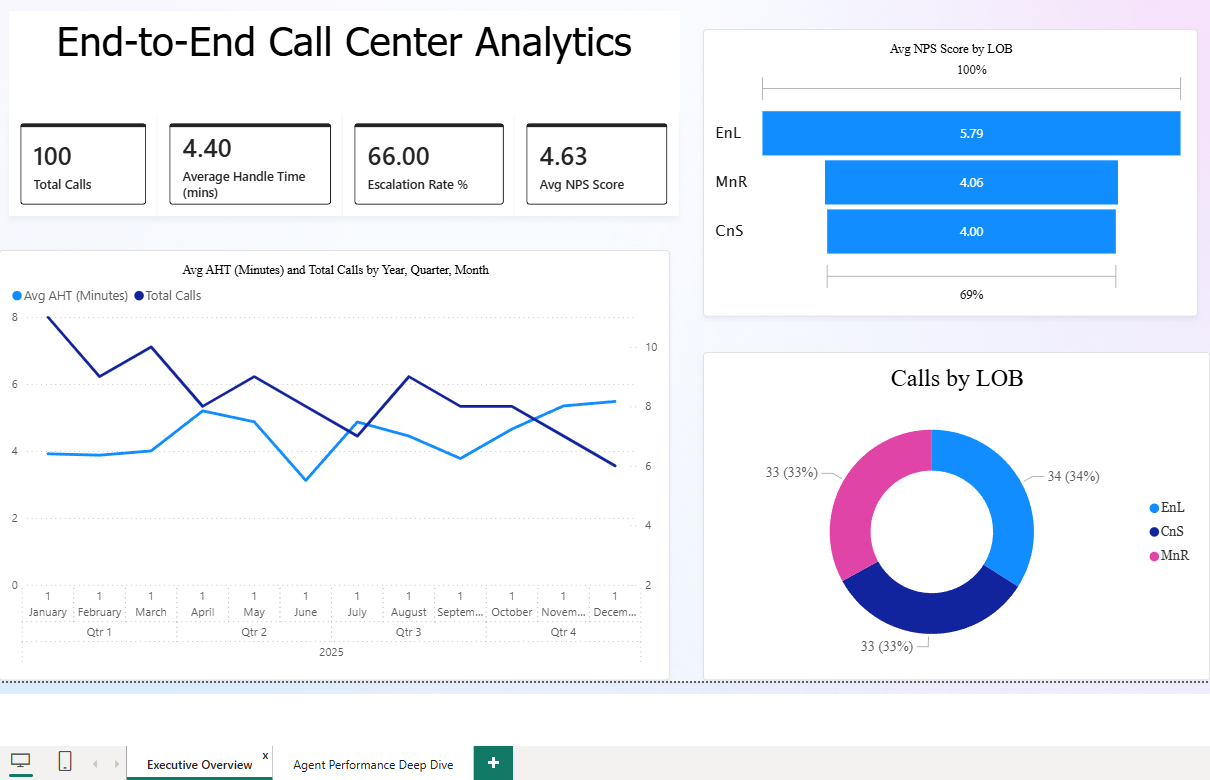

The dashboard page shown, as its layout file describes it:
{"tool":"powerbi","page":{"name":"Page 1","canvas":[1280,720],"ordinal":0},"visuals":[{"type":"cardVisual","fields":{"Data":["call_center_data.Total Calls"]},"box":[10.5,119.6,158,110.3],"z":0},{"type":"cardVisual","fields":{"Data":["call_center_data.Avg AHT (Minutes)"]},"box":[168.4,119.6,195.1,110.3],"z":1000},{"type":"lineChart","title":"Avg AHT (Minutes) and Total Calls by Year, Quarter, Month ","fields":{"Y":["call_center_data.Avg AHT (Minutes)"],"Y2":["call_center_data.Total Calls"],"Category":["call_center_data.Month_Start_Date.Variation.Date Hierarchy.Year","call_center_data.Month_Start_Date.Variation.Date Hierarchy.Quarter","call_center_data.Month_Start_Date.Variation.Date Hierarchy.Month","call_center_data.Month_Start_Date.Variation.Date Hierarchy.Day"]},"box":[0,264.8,640,455.3],"z":3000},{"type":"donutChart","title":"Calls by LOB","fields":{"Category":["call_center_data.LOB"],"Y":["call_center_data.Total Calls"]},"box":[744.3,373.1,535.7,347.2],"z":4000},{"type":"funnel","fields":{"Category":["call_center_data.LOB"],"Y":["call_center_data.Avg NPS"]},"box":[744.3,31.9,522.8,304.3],"z":5000},{"type":"cardVisual","fields":{"Data":["call_center_data.Escalation Rate %"]},"box":[363.6,119.6,182.4,110.3],"z":6000},{"type":"cardVisual","fields":{"Data":["call_center_data.Avg NPS"]},"box":[545.9,119.6,173.1,110.3],"z":7000},{"type":"textbox","box":[10.5,12.8,708.5,106.9],"z":8000}]}

Visuals, with their boxes on the page's 1280x720 design canvas (x1, y1, x2, y2). These are canvas units, not pixel positions in the 1210x780 screenshot, which may show the page scaled, cropped or inside an application window:
cardVisual - call_center_data.Total Calls: 10, 120, 168, 230
cardVisual - call_center_data.Avg AHT (Minutes): 168, 120, 364, 230
"Avg AHT (Minutes) and Total Calls by Year, Quarter, Month " lineChart: 0, 265, 640, 720
"Calls by LOB" donutChart: 744, 373, 1280, 720
funnel - call_center_data.LOB x call_center_data.Avg NPS: 744, 32, 1267, 336
cardVisual - call_center_data.Escalation Rate %: 364, 120, 546, 230
cardVisual - call_center_data.Avg NPS: 546, 120, 719, 230
textbox: 10, 13, 719, 120
